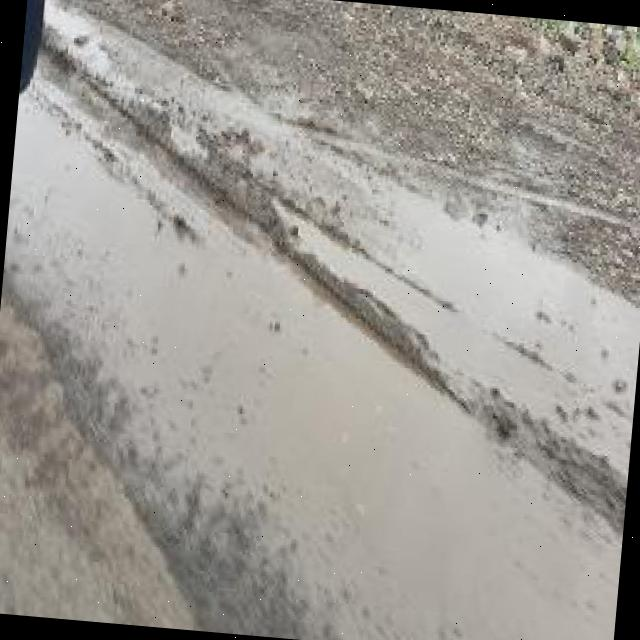waterlogging: (75, 222, 626, 640)
